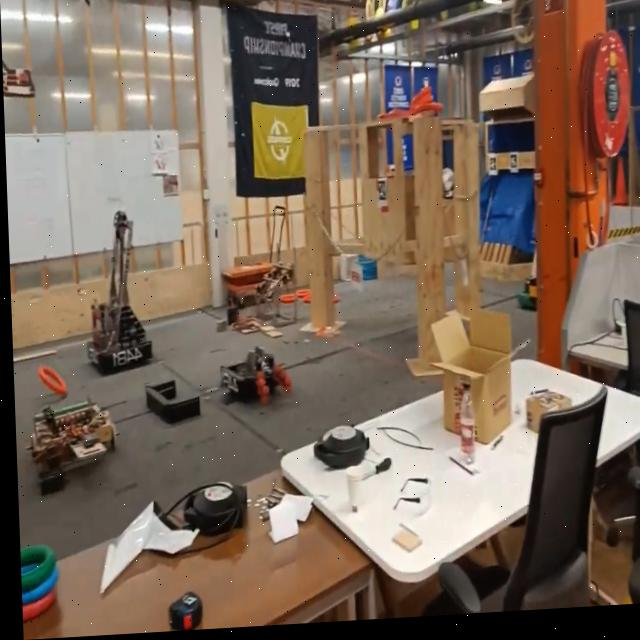note: (36, 366, 65, 397), (275, 293, 295, 309), (296, 289, 311, 299)
robot: (80, 210, 152, 377), (215, 346, 289, 407)
